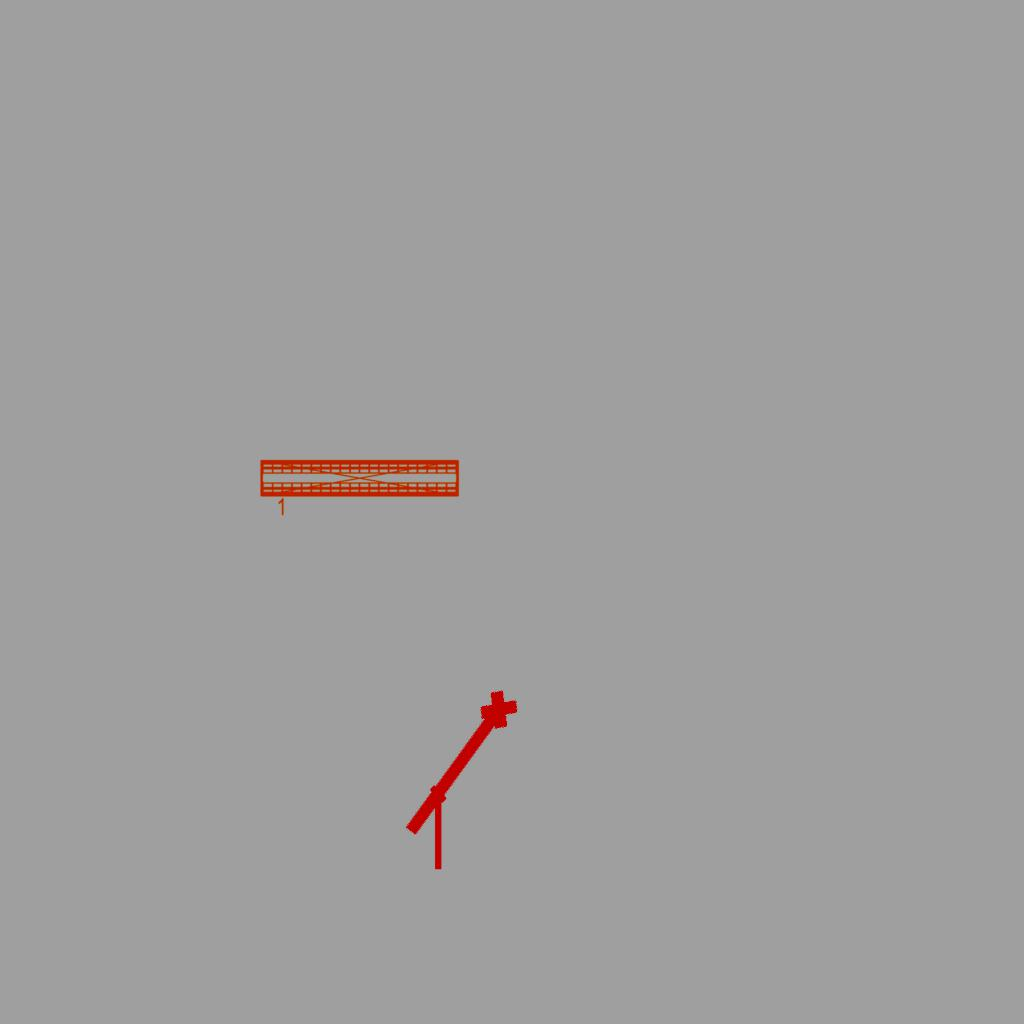ASR_Ansaugoeffnung: (390, 681, 532, 851), (428, 784, 451, 872)
Buero_Pendelleuchten_LED: (257, 455, 463, 520)
